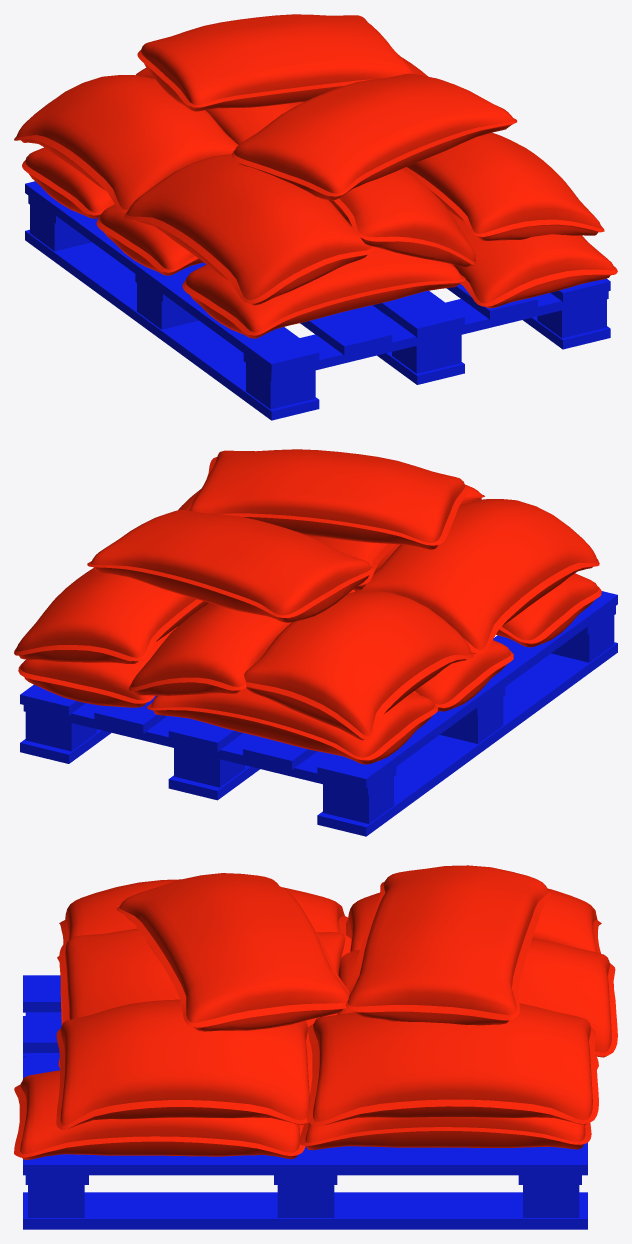
File: pallet_full_02.FBX
The picture shows the model from 3 angles, top to bottom: view 1: azimuth 30°, elevation 25°; view 2: azimuth 150°, elevation 25°; view 3: azimuth 270°, elevation 25°; orthographic projection. The views are drawn at different scales.
Parts seen in each view (by area): view 1: pallet_LP_full; view 2: pallet_LP_full; view 3: pallet_LP_full.
Part boxes in pixels (x1,y1,x2,y2): pallet_LP_full: [14, 14, 617, 420]; pallet_LP_full: [14, 449, 617, 836]; pallet_LP_full: [14, 865, 617, 1229].
Size of the model in its own units: 120 by 66.55 by 152.
